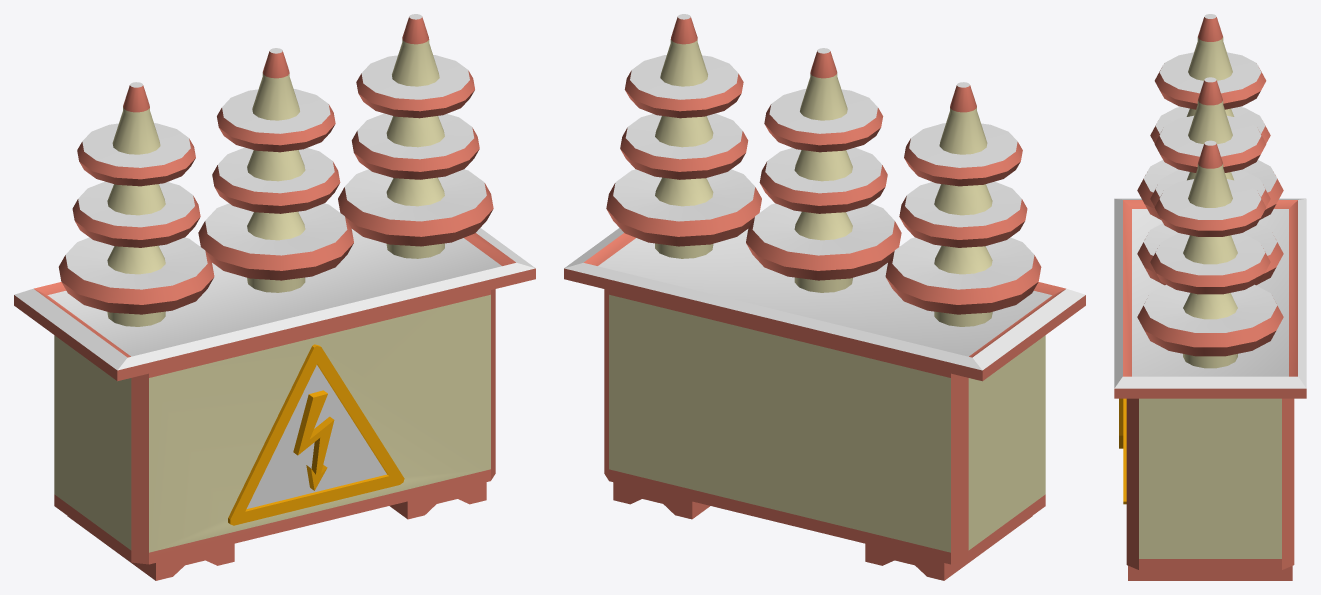
File: Transformador 1.fbx
The picture shows the model from 3 angles, left to right: view 1: azimuth 30°, elevation 25°; view 2: azimuth 150°, elevation 25°; view 3: azimuth 270°, elevation 25°; orthographic projection. The views are drawn at different scales.
Parts seen in each view (by area): view 1: Cylinder.005; view 2: Cylinder.005; view 3: Cylinder.005.
Part boxes in pixels (<box>): Cylinder.005: <box>14,14,535,580</box>; Cylinder.005: <box>564,14,1085,580</box>; Cylinder.005: <box>1114,14,1306,580</box>.
Bounding box in the file's own units: 5.37 × 5.61 × 2.3.
